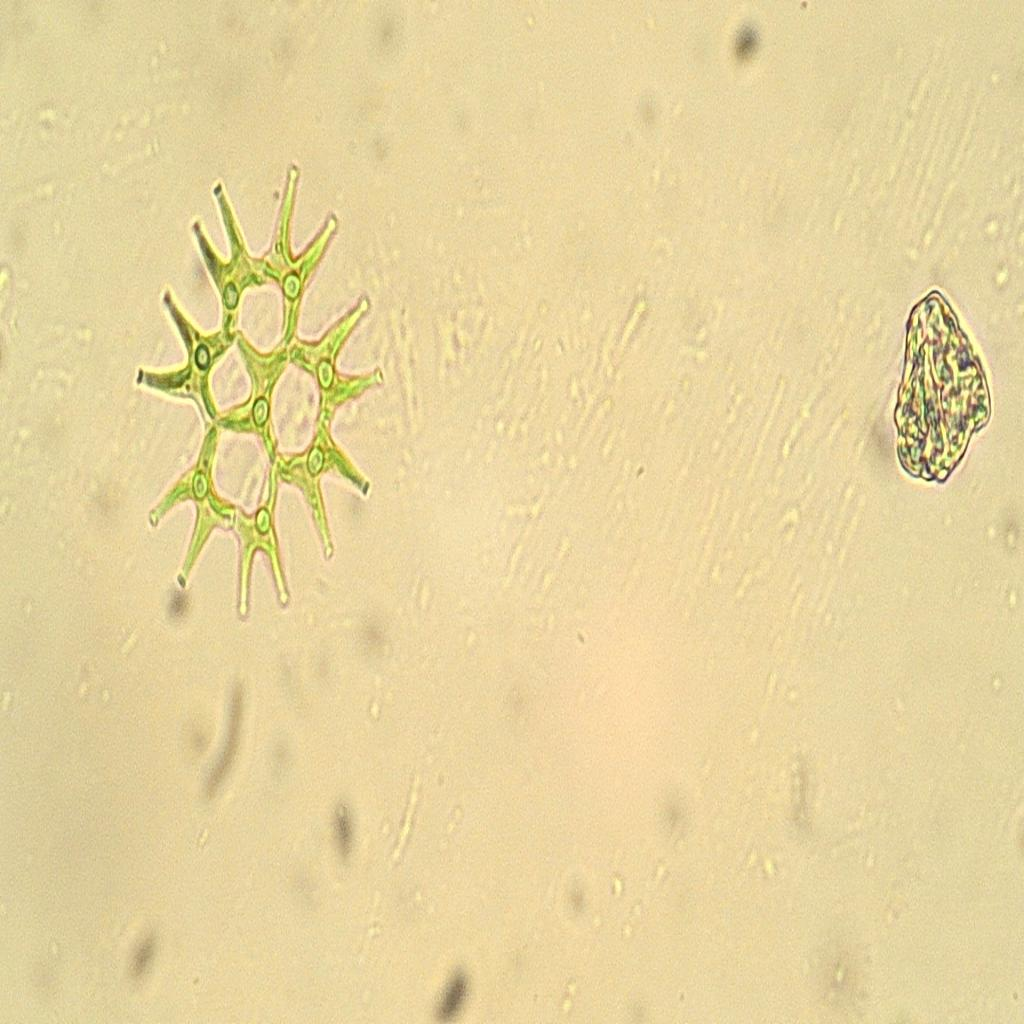Pediastrum_CTH: (119, 135, 401, 648)
